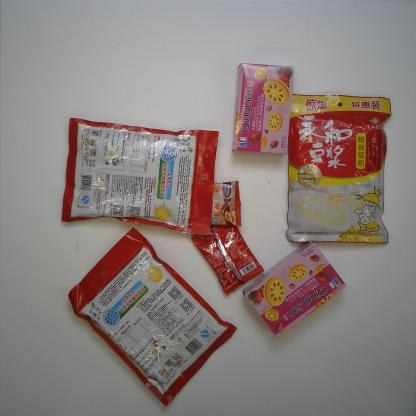Dessert: (240, 238, 352, 342), (230, 59, 296, 157)
Instant Drink: (64, 223, 240, 410), (58, 114, 221, 238), (284, 89, 392, 246), (190, 214, 266, 294), (161, 177, 245, 230)
